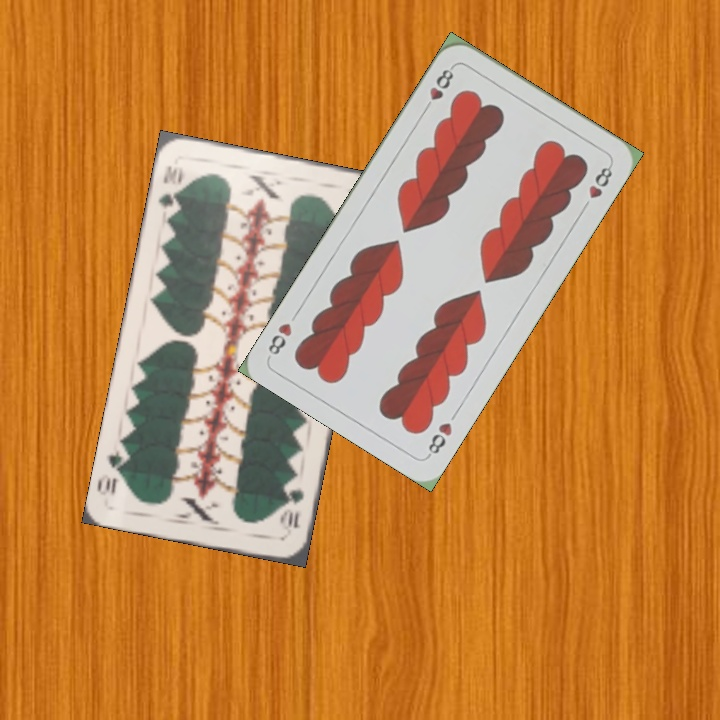G10: (154, 161, 186, 218), (280, 484, 306, 538)
H8: (419, 62, 457, 115), (423, 418, 455, 460)
